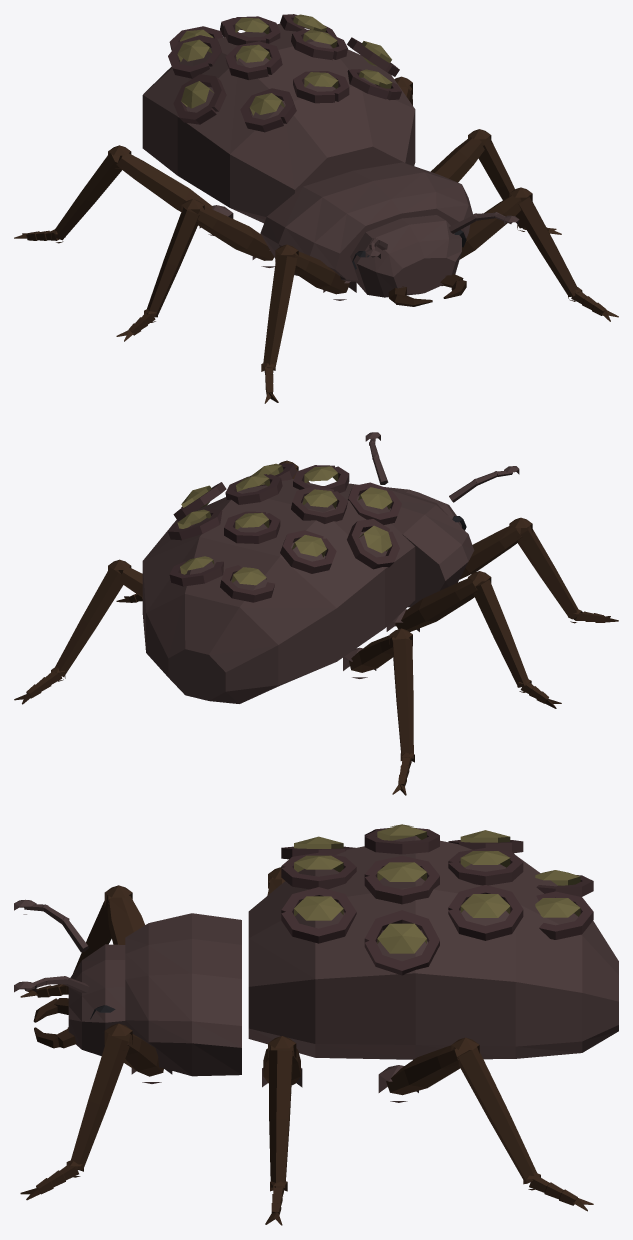
File: carrier.glb
3 views of the same model, one above another, from view 1: azimuth 30°, elevation 25°; view 2: azimuth 150°, elevation 25°; view 3: azimuth 270°, elevation 25° (orthographic). The views are drawn at different scales.
Parts seen in each view (by area): view 1: BeetleBodyInner, ThoraxCore, carr_rim, HeadBase001, carr_brood, Tibia001, Tibia003, Femur003, Femur005, Tibia000, Tibia005, Femur000 (+3 smaller); view 2: BeetleBodyInner, carr_rim, ThoraxCore, carr_brood, Tibia004, Tibia005, Femur003, Tibia003, Tibia001, Femur001, Femur005; view 3: BeetleBodyInner, ThoraxCore, carr_rim, carr_brood, HeadBase001, Tibia004, Tibia002, Tibia000, Femur004, Femur001, Femur000, Tibia001 (+1 smaller).
Boxes of the visible parts, x1,y1,x2,y2 form: BeetleBodyInner: [142, 23, 415, 223]; ThoraxCore: [260, 162, 472, 281]; carr_rim: [168, 14, 401, 132]; HeadBase001: [350, 215, 461, 297]; carr_brood: [177, 14, 392, 115]; Tibia001: [263, 255, 297, 369]; Tibia003: [146, 207, 199, 317]; Femur003: [191, 206, 274, 260]; Femur005: [116, 153, 212, 211]; Tibia000: [517, 196, 579, 296]; Tibia005: [54, 153, 121, 240]; Femur000: [459, 195, 521, 259]; BeetleBodyInner: [142, 479, 415, 703]; carr_rim: [168, 463, 401, 602]; ThoraxCore: [345, 483, 474, 607]; carr_brood: [177, 463, 392, 585]; Tibia004: [54, 567, 123, 676]; Tibia005: [392, 638, 413, 759]; Femur003: [395, 578, 481, 631]; Tibia003: [473, 579, 529, 687]; Tibia001: [517, 525, 579, 619]; Femur001: [459, 525, 521, 579]; Femur005: [349, 635, 409, 672]; BeetleBodyInner: [248, 836, 618, 1059]; ThoraxCore: [125, 913, 241, 1076]; carr_rim: [281, 828, 593, 975]; carr_brood: [294, 824, 580, 953]; HeadBase001: [68, 944, 125, 1055]; Tibia004: [457, 1047, 536, 1183]; Tibia002: [268, 1050, 292, 1187]; Tibia000: [69, 1034, 130, 1170]; Femur004: [386, 1045, 468, 1095]; Femur001: [107, 895, 144, 944]; Femur000: [108, 1033, 163, 1076]; Tibia001: [73, 895, 111, 973].
Size of the model in its own units: 3.69 by 1.65 by 3.63.
